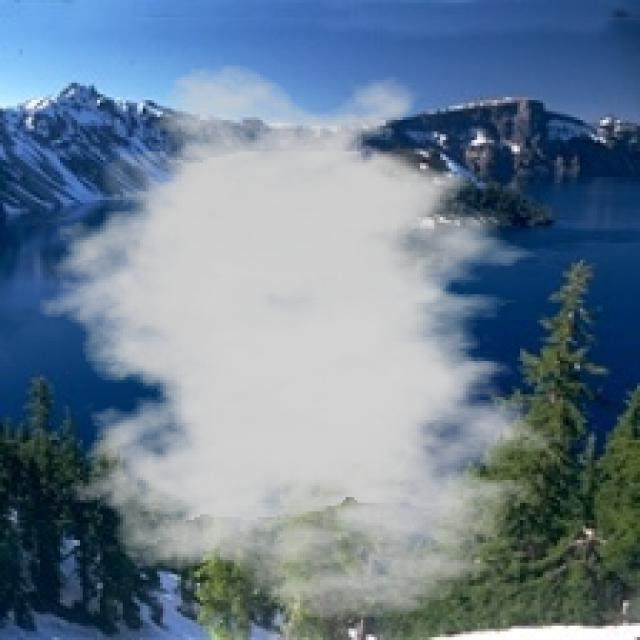Smoke: (29, 63, 592, 620)
